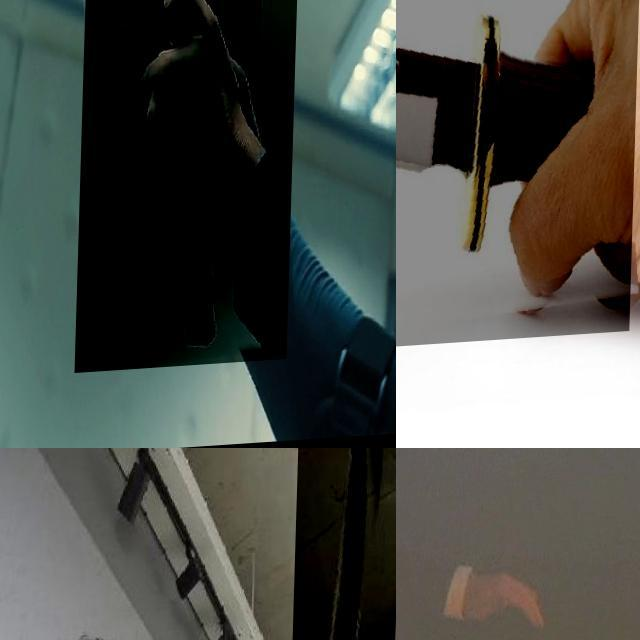-: (396, 0, 640, 370), (287, 448, 396, 640)
gun-knife-thesis - v11 Yolov5 augmented: (78, 0, 301, 374)
